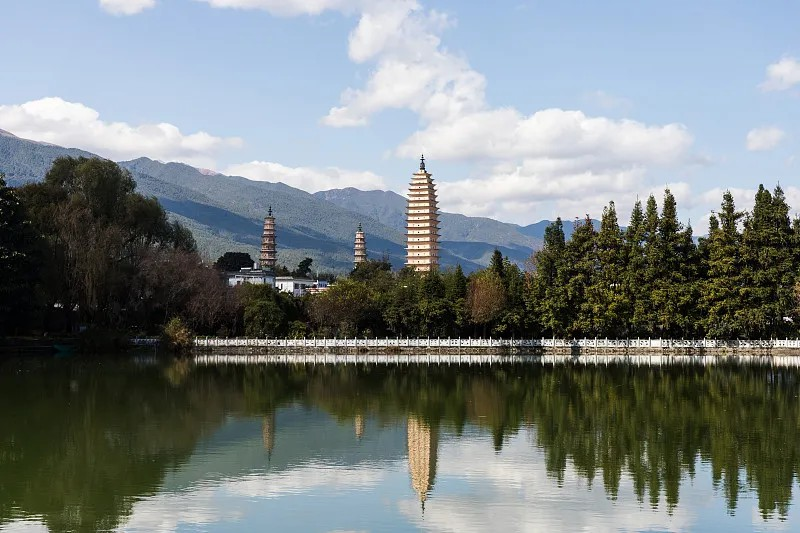ThreePagoda: (404, 153, 441, 275)
